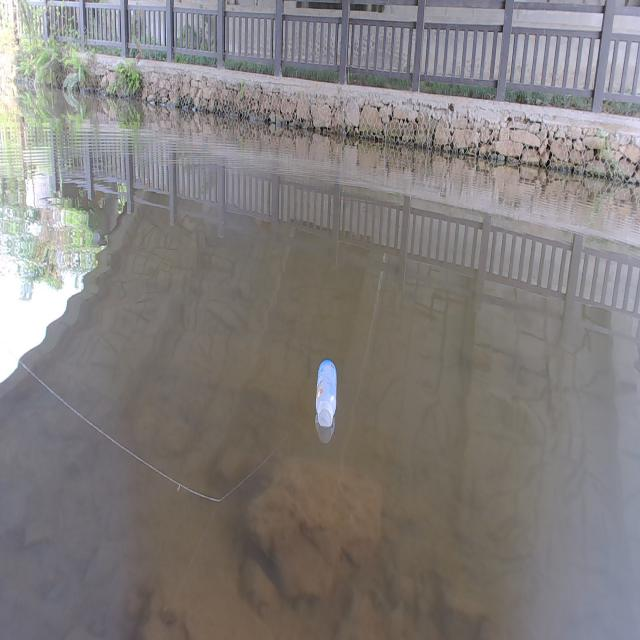Bottle: (314, 353, 338, 432)
